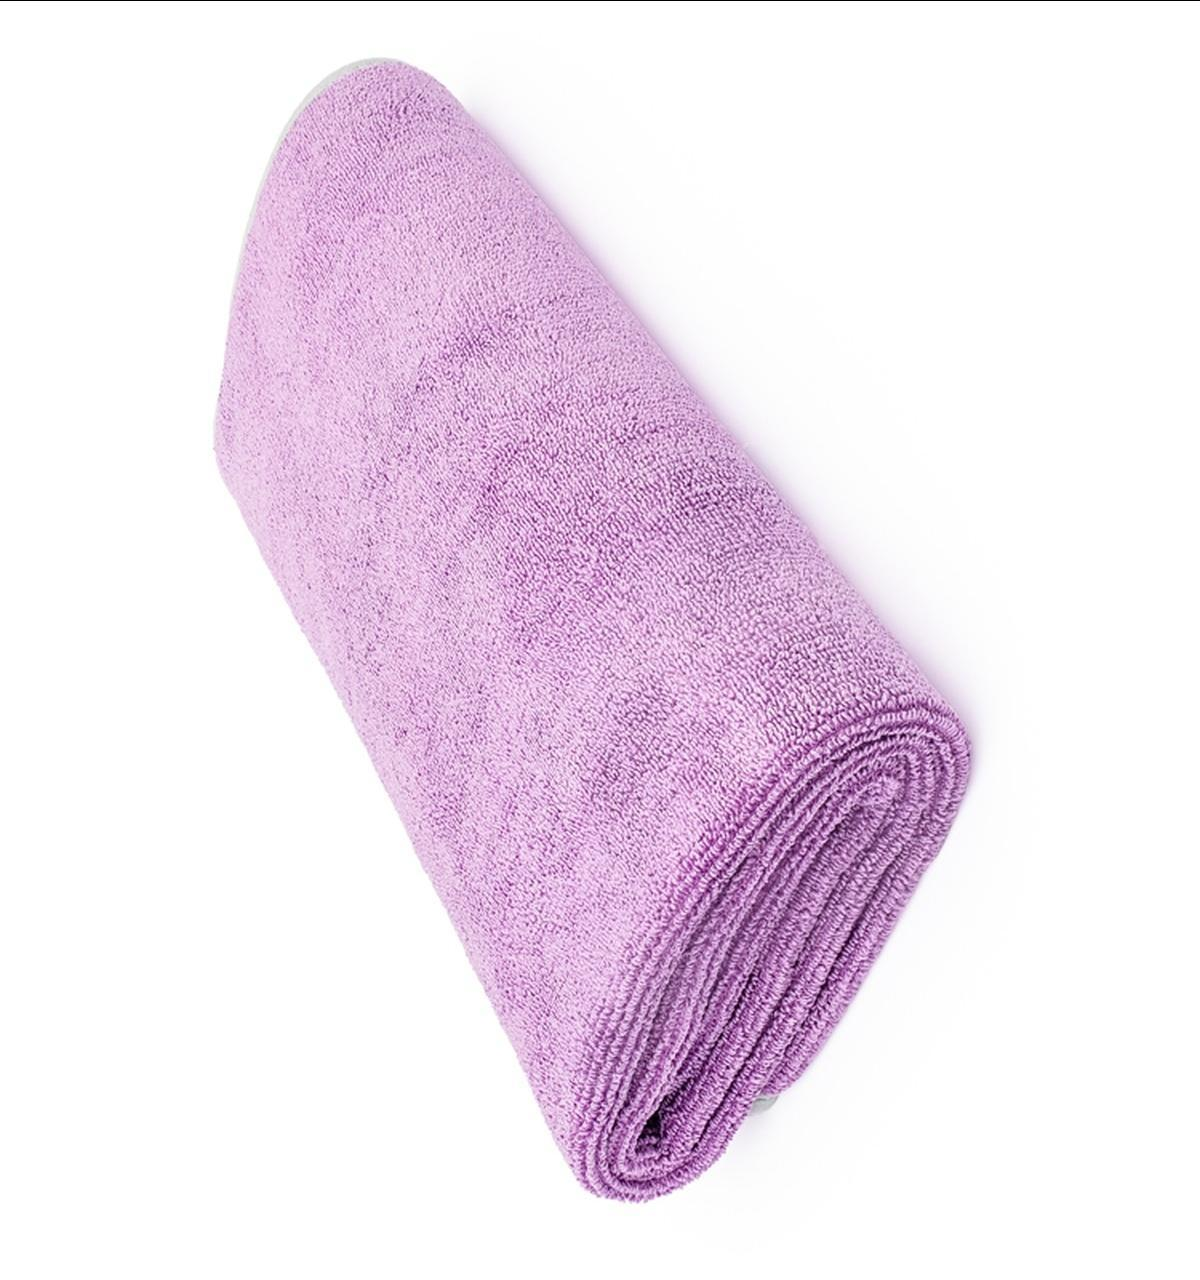towel: (174, 37, 1026, 1243)
